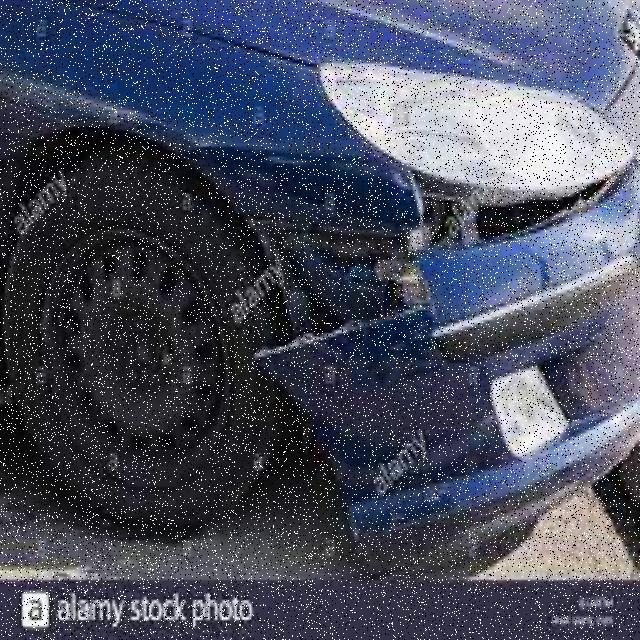front-bumper-dent: (240, 134, 636, 544)
